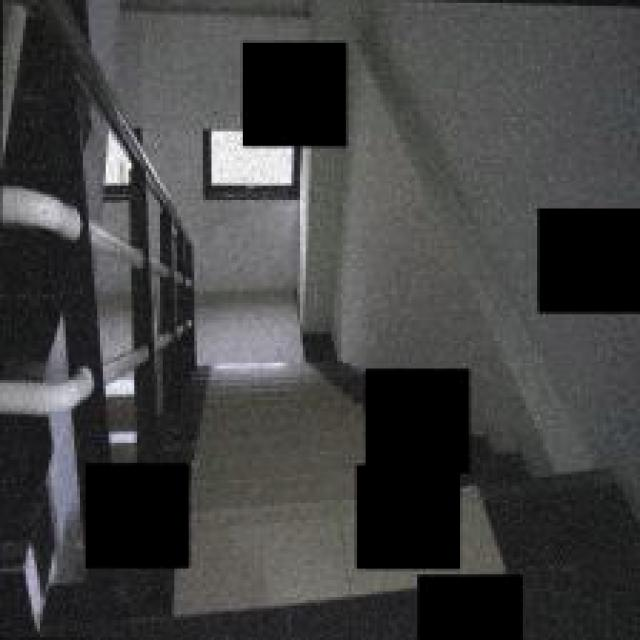downstair: (198, 358, 344, 564)
